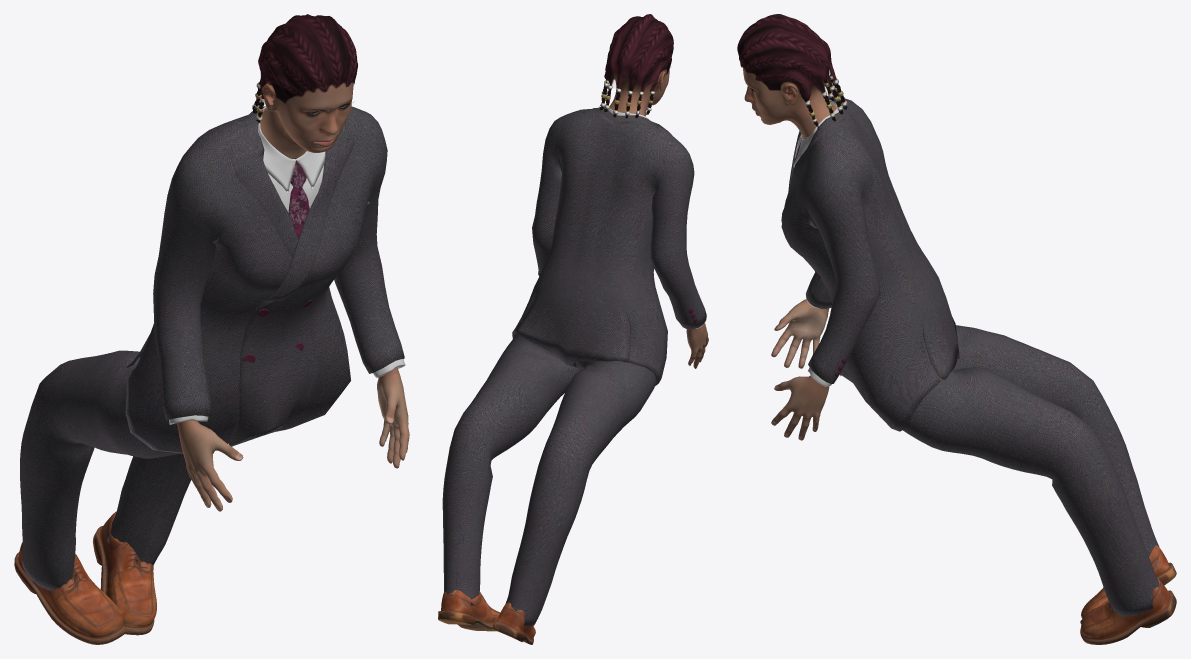
Rendered from donna-02.glb.
3 views of the same model, side by side, from view 1: azimuth 30°, elevation 25°; view 2: azimuth 150°, elevation 25°; view 3: azimuth 270°, elevation 25° (orthographic). The views are drawn at different scales.
Parts seen in each view (by area): view 1: Human.toigo_female_double-breasted_suit, Human, Human.shoes01, Human.elvs_braided_rows; view 2: Human.toigo_female_double-breasted_suit, Human.elvs_braided_rows, Human.shoes01, Human; view 3: Human.toigo_female_double-breasted_suit, Human, Human.elvs_braided_rows, Human.shoes01.
Boxes of the visible parts, bbox=[...] form: Human.toigo_female_double-breasted_suit: bbox=[20, 106, 405, 590]; Human: bbox=[177, 82, 409, 511]; Human.shoes01: bbox=[14, 511, 156, 644]; Human.elvs_braided_rows: bbox=[252, 14, 357, 123]; Human.toigo_female_double-breasted_suit: bbox=[442, 107, 706, 626]; Human.elvs_braided_rows: bbox=[599, 14, 673, 118]; Human.shoes01: bbox=[438, 590, 535, 644]; Human: bbox=[609, 68, 708, 368]; Human.toigo_female_double-breasted_suit: bbox=[781, 96, 1159, 616]; Human: bbox=[743, 67, 836, 440]; Human.elvs_braided_rows: bbox=[737, 14, 847, 129]; Human.shoes01: bbox=[1080, 545, 1176, 644].
Size of the model in its own units: 0.4796 by 1.48 by 0.9591.
Materials: 12 (12 with a texture image).
